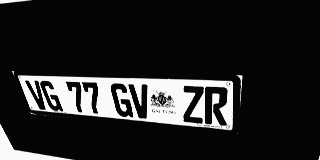7: (80, 82, 105, 115), (64, 82, 89, 114)
G: (109, 83, 134, 118), (38, 81, 63, 111)
R: (205, 86, 229, 126)
V: (128, 84, 152, 119), (25, 80, 50, 110)
Z: (181, 86, 204, 124)
